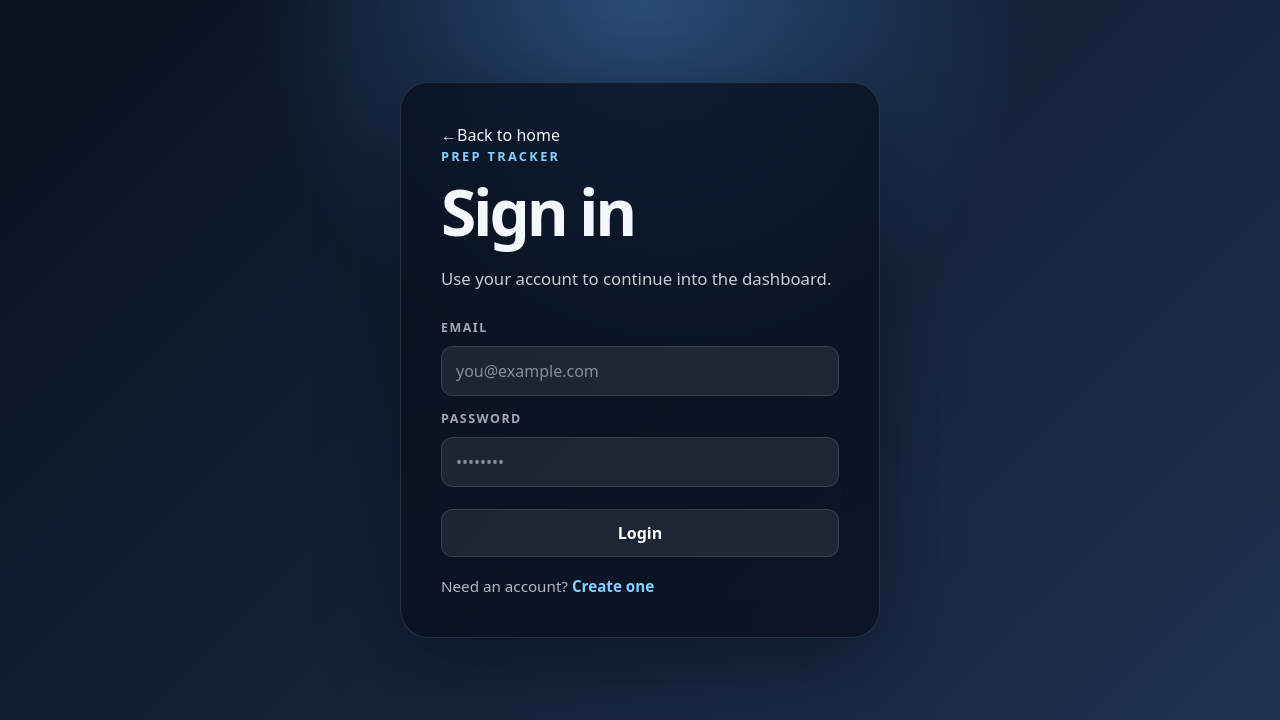
Test: LoginForm › shows API errors when login fails
Type "user@example.com" into the field labelled "Email". click: (640,371)
box: [441,346,839,396]
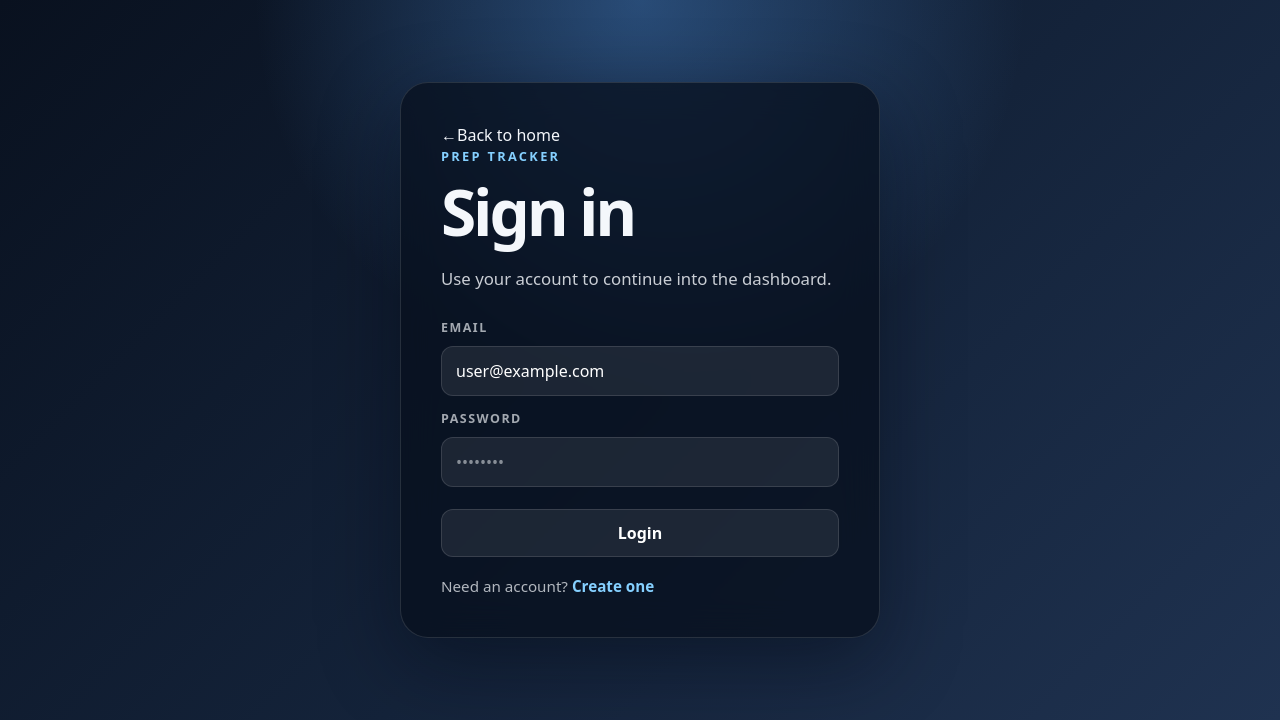
Type "password123" into the password field labelled "Password". click: (640,462)
box: [441,437,839,487]
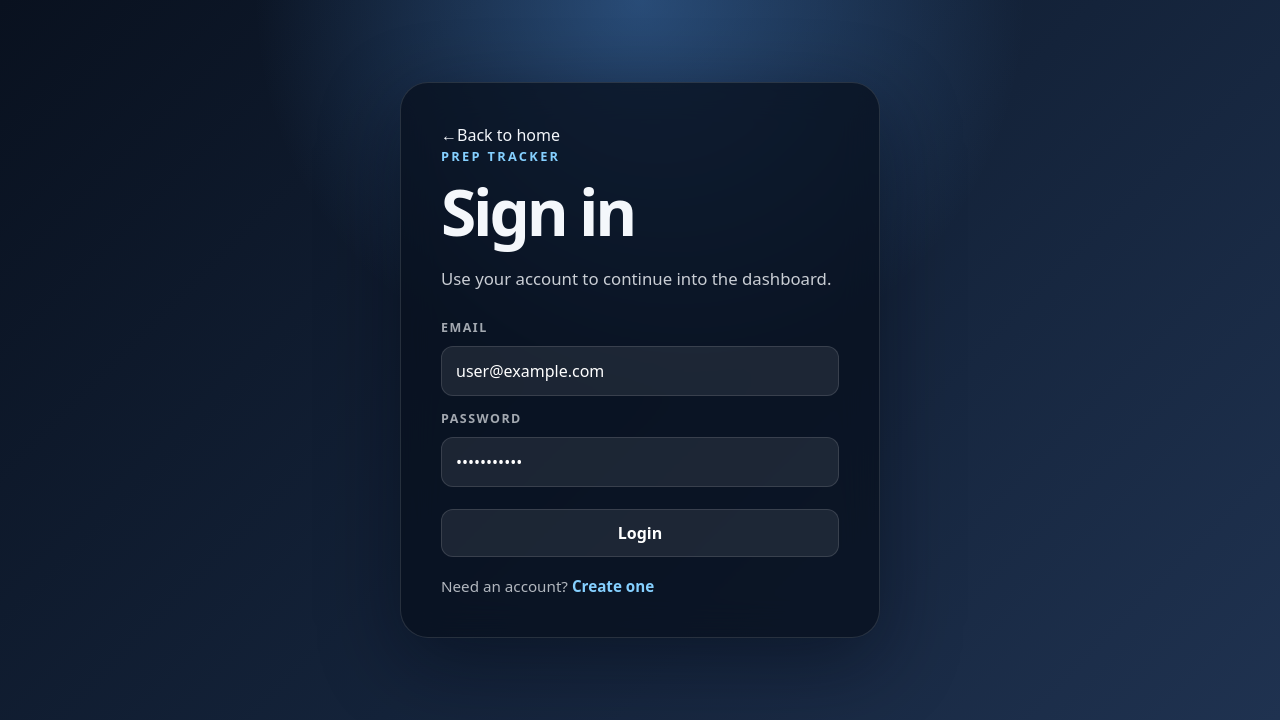
Click the button "Login". click: (640,533)
box: [441,509,839,557]
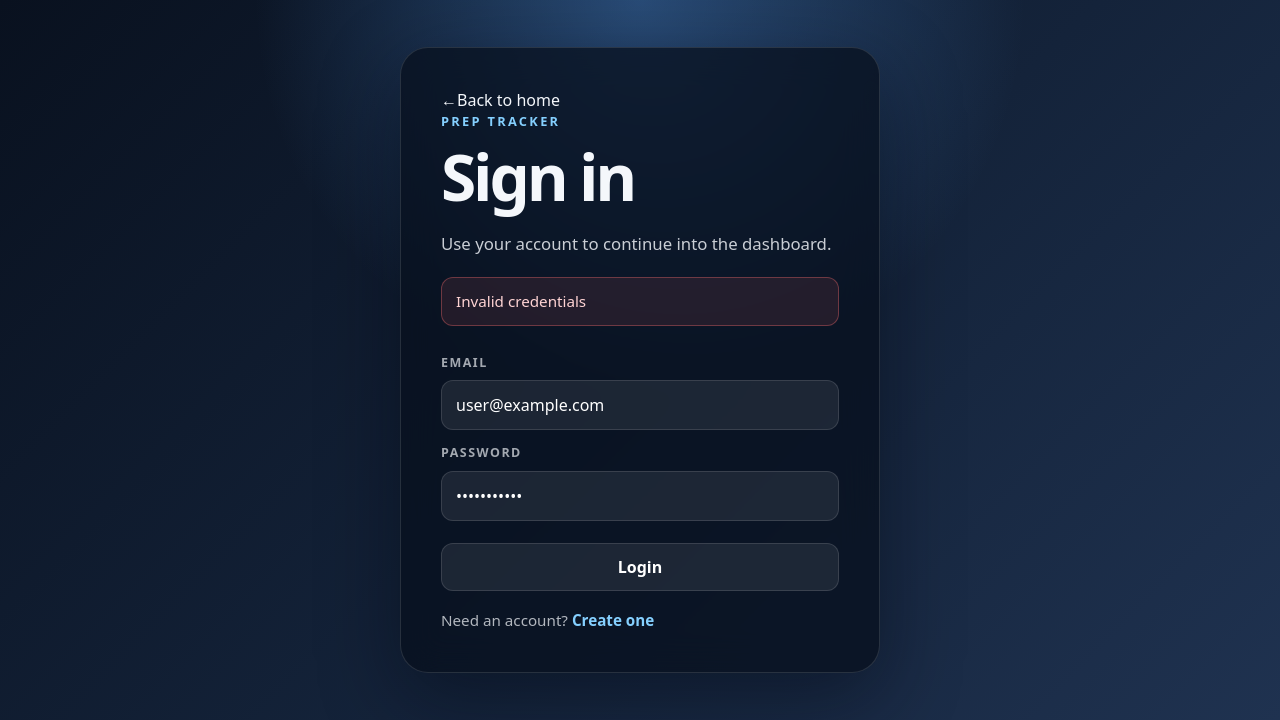
Result: the message reads "Invalid credentials" at [456,291,586,311]
